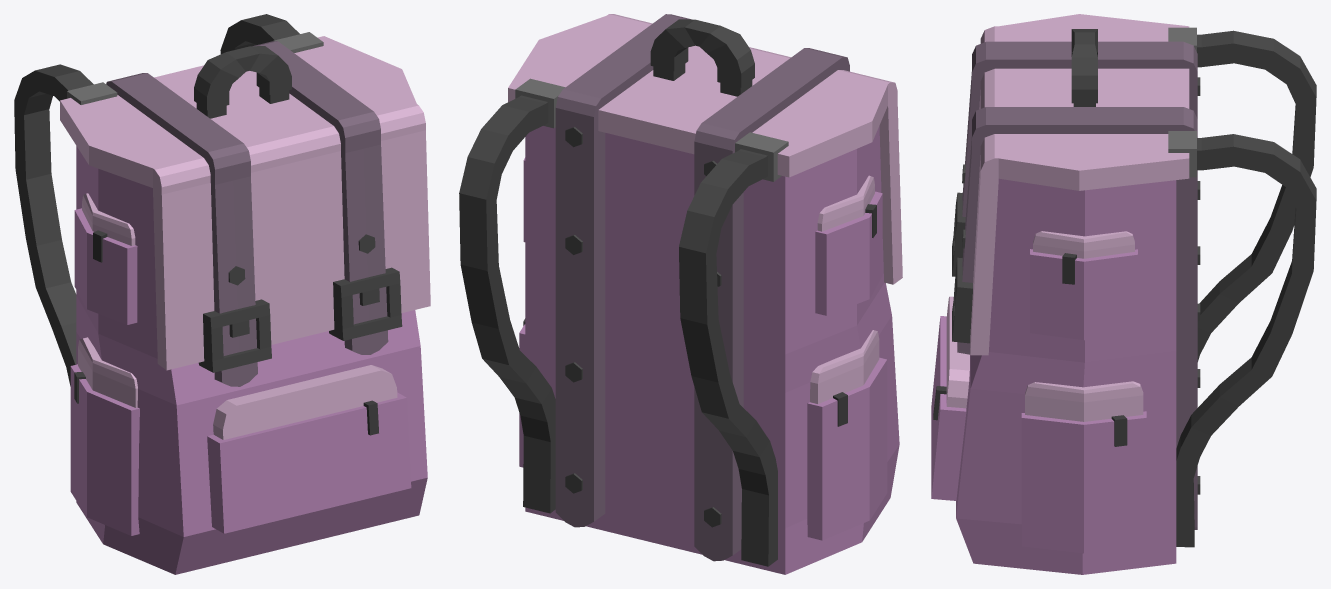
The model's file is BackpackLilac.fbx.
3 views of the same model, side by side, from view 1: azimuth 30°, elevation 25°; view 2: azimuth 150°, elevation 25°; view 3: azimuth 270°, elevation 25° (orthographic). The views are drawn at different scales.
Visible parts, largest first — view 1: Cube.005; view 2: Cube.005; view 3: Cube.005.
Boxes of the visible parts, x1,y1,x2,y2 form: Cube.005: (14, 14, 430, 574); Cube.005: (459, 14, 902, 574); Cube.005: (931, 14, 1316, 574).
Bounding box in the file's own units: 325 × 448 × 337.
